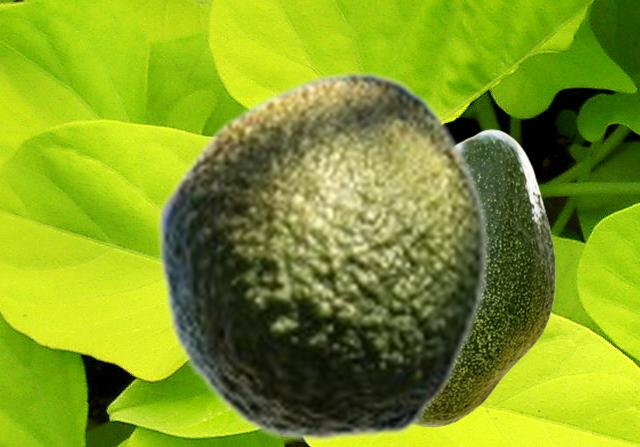avocado: (155, 71, 488, 440), (417, 129, 554, 426)
